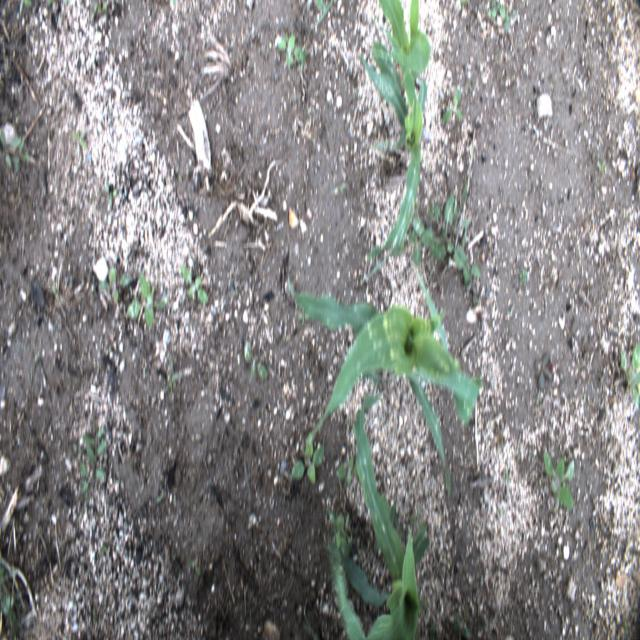crop: (289, 285, 486, 502), (326, 394, 431, 637), (361, 1, 432, 280)
weed: (124, 266, 168, 333), (540, 450, 578, 520), (428, 187, 457, 266), (289, 437, 327, 493), (77, 425, 108, 489), (97, 260, 134, 308), (455, 237, 485, 293), (179, 262, 214, 303), (2, 131, 30, 182), (272, 30, 309, 68), (241, 329, 269, 377), (408, 213, 430, 274), (0, 561, 16, 633), (622, 340, 638, 410), (327, 510, 351, 555), (488, 2, 522, 33), (439, 86, 464, 127), (535, 347, 555, 398), (88, 0, 116, 28), (594, 151, 611, 184), (337, 459, 357, 485), (314, 1, 334, 22), (517, 260, 530, 289), (70, 128, 88, 148), (15, 3, 33, 17)
